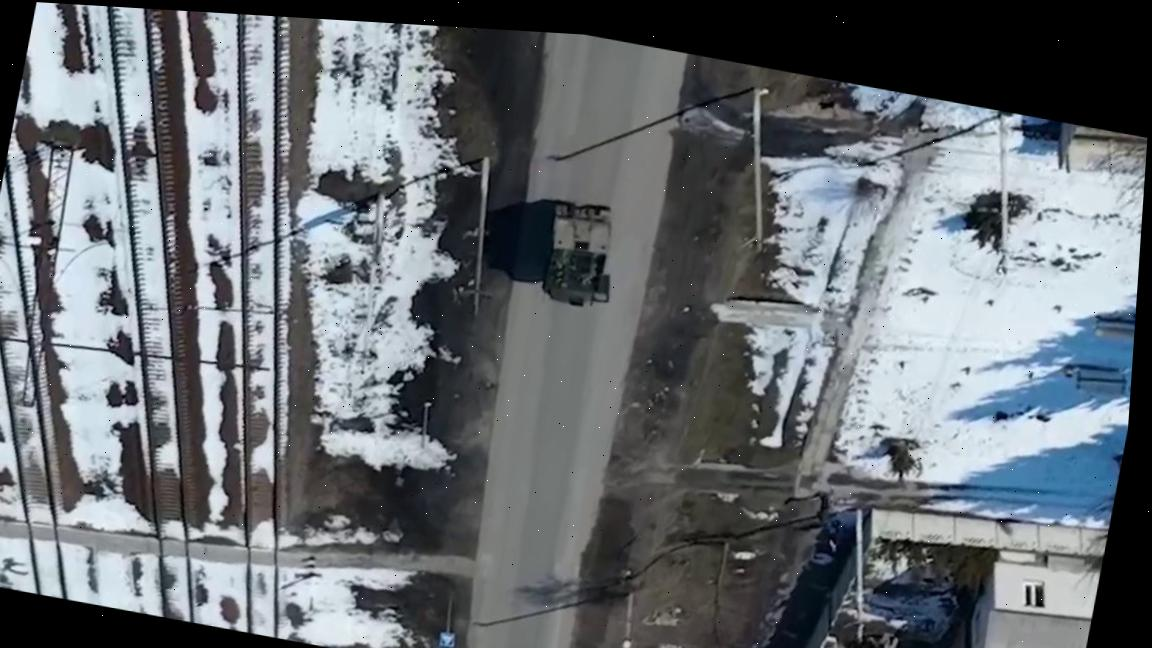truck: (536, 195, 626, 312)
